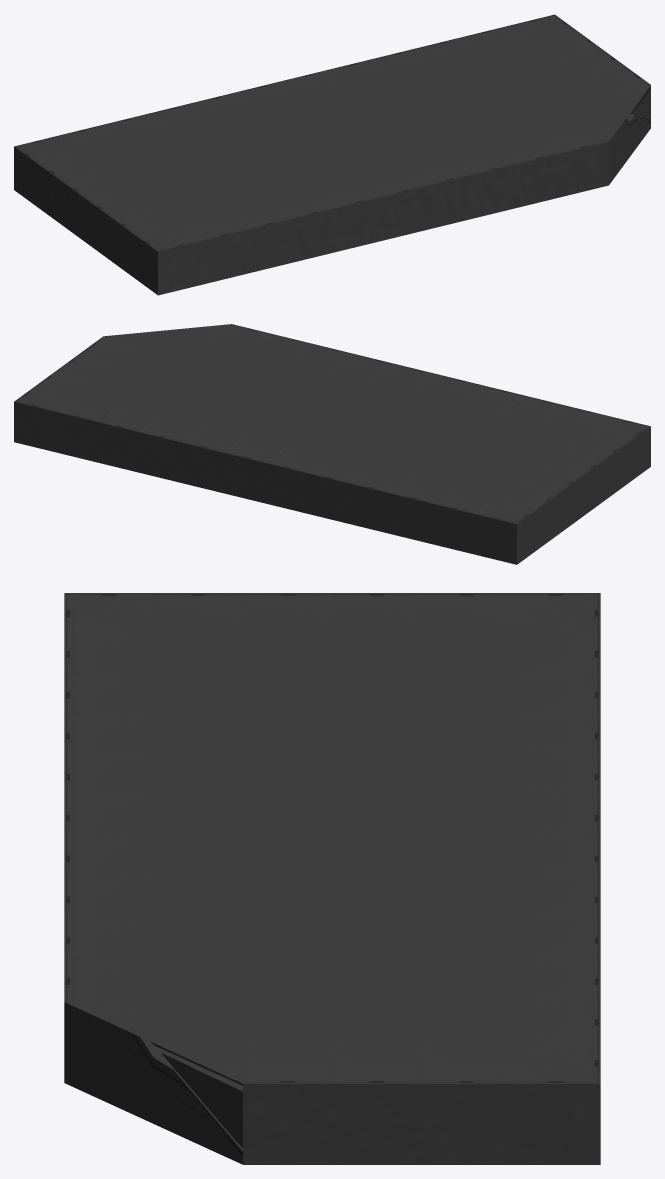
File: GroundExpec1.fbx
3 renders of one model, top to bottom at view 1: azimuth 30°, elevation 25°; view 2: azimuth 150°, elevation 25°; view 3: azimuth 270°, elevation 25°, orthographic. The views are drawn at different scales.
Parts seen in each view (by area): view 1: Ground2; view 2: Ground2; view 3: Ground2.
Boxes of the visible parts, x1,y1,x2,y2 form: Ground2: [14, 14, 650, 295]; Ground2: [14, 324, 650, 564]; Ground2: [64, 593, 600, 1164].
Size of the model in its own units: 1300 by 100 by 600.
